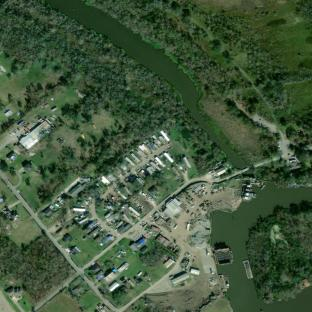Floresta: (0, 0, 187, 173), (91, 0, 284, 158), (246, 201, 312, 302), (0, 219, 74, 301), (256, 127, 312, 186), (0, 0, 0, 0)
